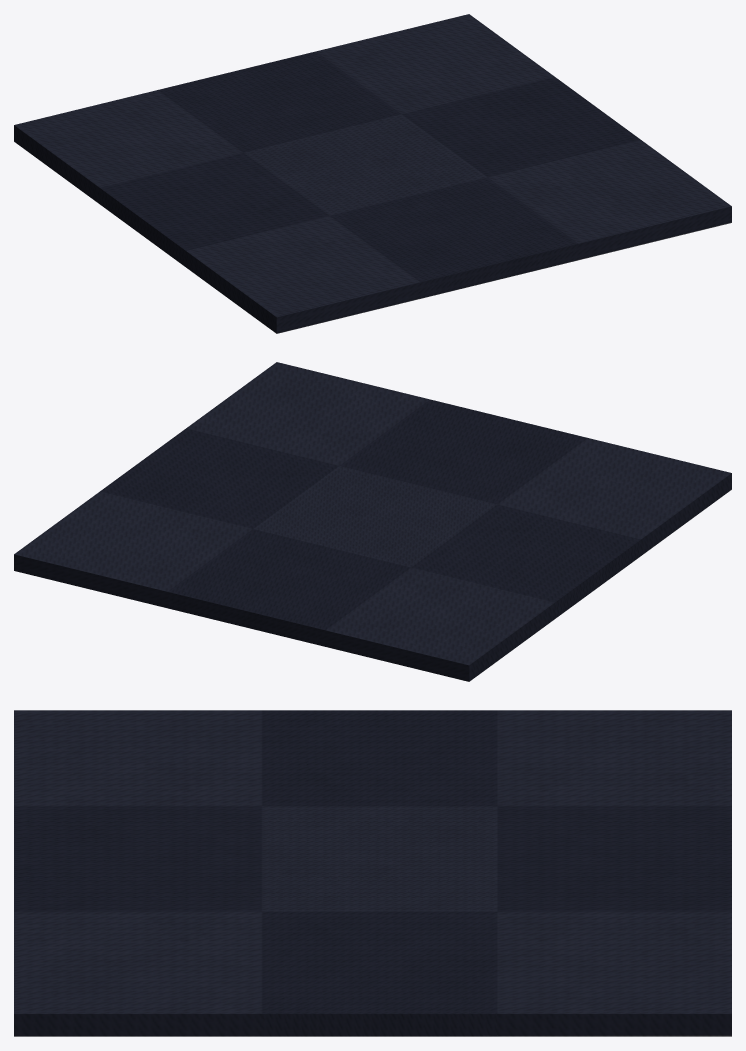
The model's file is Msh_MoquetteModulaire.fbx.
3 views of the same model, one above another, from view 1: azimuth 30°, elevation 25°; view 2: azimuth 150°, elevation 25°; view 3: azimuth 270°, elevation 25° (orthographic). The views are drawn at different scales.
Parts seen in each view (by area): view 1: pCube189; view 2: pCube189; view 3: pCube189.
Part boxes in pixels (bbox=[...]): pCube189: bbox=[14, 14, 731, 333]; pCube189: bbox=[14, 362, 731, 681]; pCube189: bbox=[14, 710, 731, 1036].
Bounding box in the file's own units: 25.07 × 25.07 × 0.8699.
